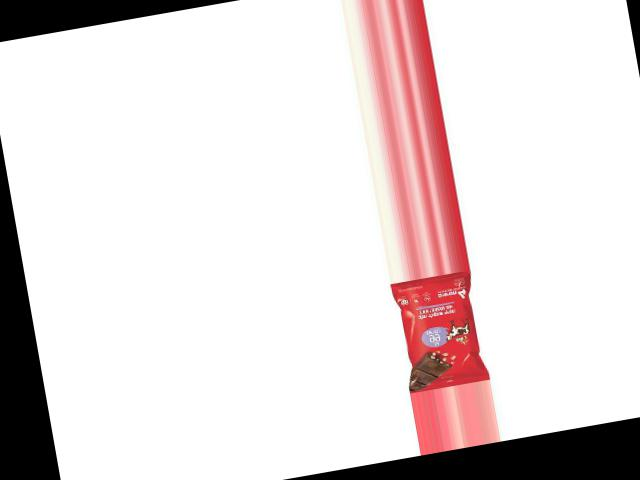chocolate: (389, 269, 486, 393)
